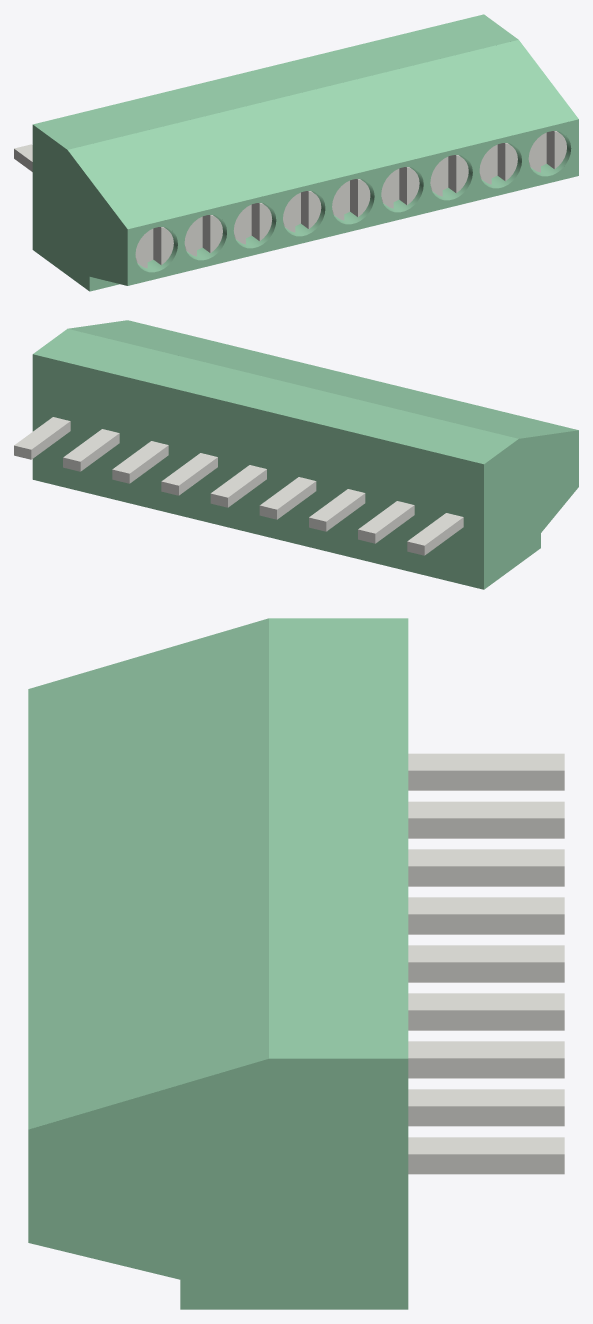
The model's file is TerminalBlock_Phoenix_MPT-0,5-9-2.54_1x09_P2.54mm_Horizontal.glb.
The picture shows the model from 3 angles, top to bottom: view 1: azimuth 30°, elevation 25°; view 2: azimuth 150°, elevation 25°; view 3: azimuth 270°, elevation 25°; orthographic projection. The views are drawn at different scales.
Visible parts, largest first — view 1: Shape_IndexedFaceSet.080, Shape_IndexedFaceSet.004, Shape_IndexedFaceSet.079, Shape_IndexedFaceSet.002, Shape_IndexedFaceSet.128, Shape_IndexedFaceSet.131, Shape_IndexedFaceSet.133, Shape_IndexedFaceSet.127, Shape_IndexedFaceSet.130, Shape_IndexedFaceSet.129, Shape_IndexedFaceSet.132, Shape_IndexedFaceSet.126 (+8 smaller); view 2: Shape_IndexedFaceSet, Shape_IndexedFaceSet.004, Shape_IndexedFaceSet.080, Shape_IndexedFaceSet.002, Shape_IndexedFaceSet.011, Shape_IndexedFaceSet.015, Shape_IndexedFaceSet.035, Shape_IndexedFaceSet.007, Shape_IndexedFaceSet.023, Shape_IndexedFaceSet.027, Shape_IndexedFaceSet.031, Shape_IndexedFaceSet.039 (+10 smaller); view 3: Shape_IndexedFaceSet.080, Shape_IndexedFaceSet.003, Shape_IndexedFaceSet.004, Shape_IndexedFaceSet.006, Shape_IndexedFaceSet.010, Shape_IndexedFaceSet.014, Shape_IndexedFaceSet.018, Shape_IndexedFaceSet.022, Shape_IndexedFaceSet.026, Shape_IndexedFaceSet.030, Shape_IndexedFaceSet.034, Shape_IndexedFaceSet.038 (+9 smaller).
Part boxes in pixels (x1=…): Shape_IndexedFaceSet.080: x1=68, y1=40, x2=578, y2=229; Shape_IndexedFaceSet.004: x1=33, y1=14, x2=518, y2=149; Shape_IndexedFaceSet.079: x1=127, y1=119, x2=578, y2=285; Shape_IndexedFaceSet.002: x1=32, y1=125, x2=127, y2=291; Shape_IndexedFaceSet.128: x1=432, y1=155, x2=472, y2=200; Shape_IndexedFaceSet.131: x1=383, y1=167, x2=423, y2=212; Shape_IndexedFaceSet.133: x1=137, y1=227, x2=177, y2=272; Shape_IndexedFaceSet.127: x1=481, y1=143, x2=521, y2=188; Shape_IndexedFaceSet.130: x1=285, y1=191, x2=325, y2=236; Shape_IndexedFaceSet.129: x1=235, y1=203, x2=276, y2=248; Shape_IndexedFaceSet.132: x1=334, y1=179, x2=374, y2=224; Shape_IndexedFaceSet.126: x1=530, y1=131, x2=571, y2=176; Shape_IndexedFaceSet: x1=32, y1=354, x2=483, y2=589; Shape_IndexedFaceSet.004: x1=33, y1=329, x2=518, y2=464; Shape_IndexedFaceSet.080: x1=68, y1=320, x2=578, y2=438; Shape_IndexedFaceSet.002: x1=484, y1=430, x2=578, y2=589; Shape_IndexedFaceSet.011: x1=161, y1=453, x2=217, y2=485; Shape_IndexedFaceSet.015: x1=211, y1=465, x2=266, y2=497; Shape_IndexedFaceSet.035: x1=407, y1=513, x2=463, y2=545; Shape_IndexedFaceSet.007: x1=112, y1=441, x2=168, y2=473; Shape_IndexedFaceSet.023: x1=260, y1=477, x2=315, y2=509; Shape_IndexedFaceSet.027: x1=63, y1=429, x2=119, y2=461; Shape_IndexedFaceSet.031: x1=358, y1=501, x2=413, y2=533; Shape_IndexedFaceSet.039: x1=14, y1=417, x2=69, y2=449; Shape_IndexedFaceSet.080: x1=28, y1=618, x2=268, y2=1129; Shape_IndexedFaceSet.003: x1=28, y1=1058, x2=408, y2=1309; Shape_IndexedFaceSet.004: x1=269, y1=618, x2=408, y2=1058; Shape_IndexedFaceSet.006: x1=408, y1=1058, x2=564, y2=1078; Shape_IndexedFaceSet.010: x1=408, y1=1010, x2=564, y2=1030; Shape_IndexedFaceSet.014: x1=408, y1=962, x2=564, y2=982; Shape_IndexedFaceSet.018: x1=408, y1=866, x2=564, y2=886; Shape_IndexedFaceSet.022: x1=408, y1=914, x2=564, y2=934; Shape_IndexedFaceSet.026: x1=408, y1=1106, x2=564, y2=1126; Shape_IndexedFaceSet.030: x1=408, y1=818, x2=564, y2=838; Shape_IndexedFaceSet.034: x1=408, y1=770, x2=564, y2=790; Shape_IndexedFaceSet.038: x1=408, y1=1154, x2=564, y2=1174.
Bounding box in the file's own units: 9.18 × 2.44 × 4.72.
